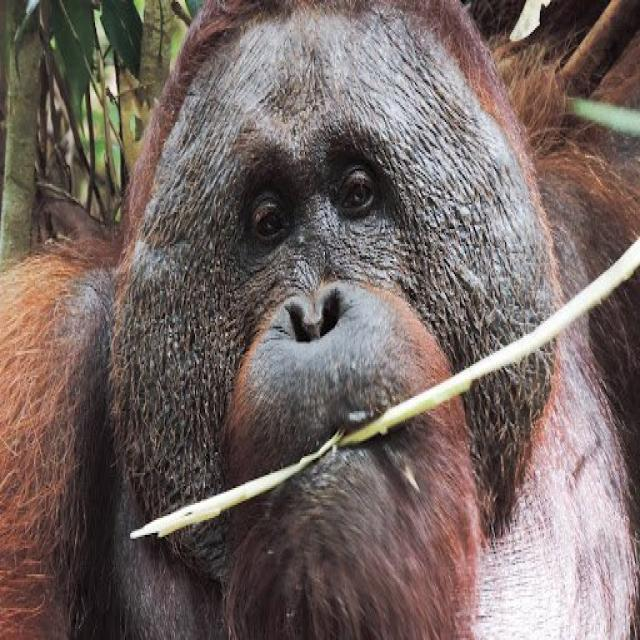Orangutan: (10, 0, 640, 640)
